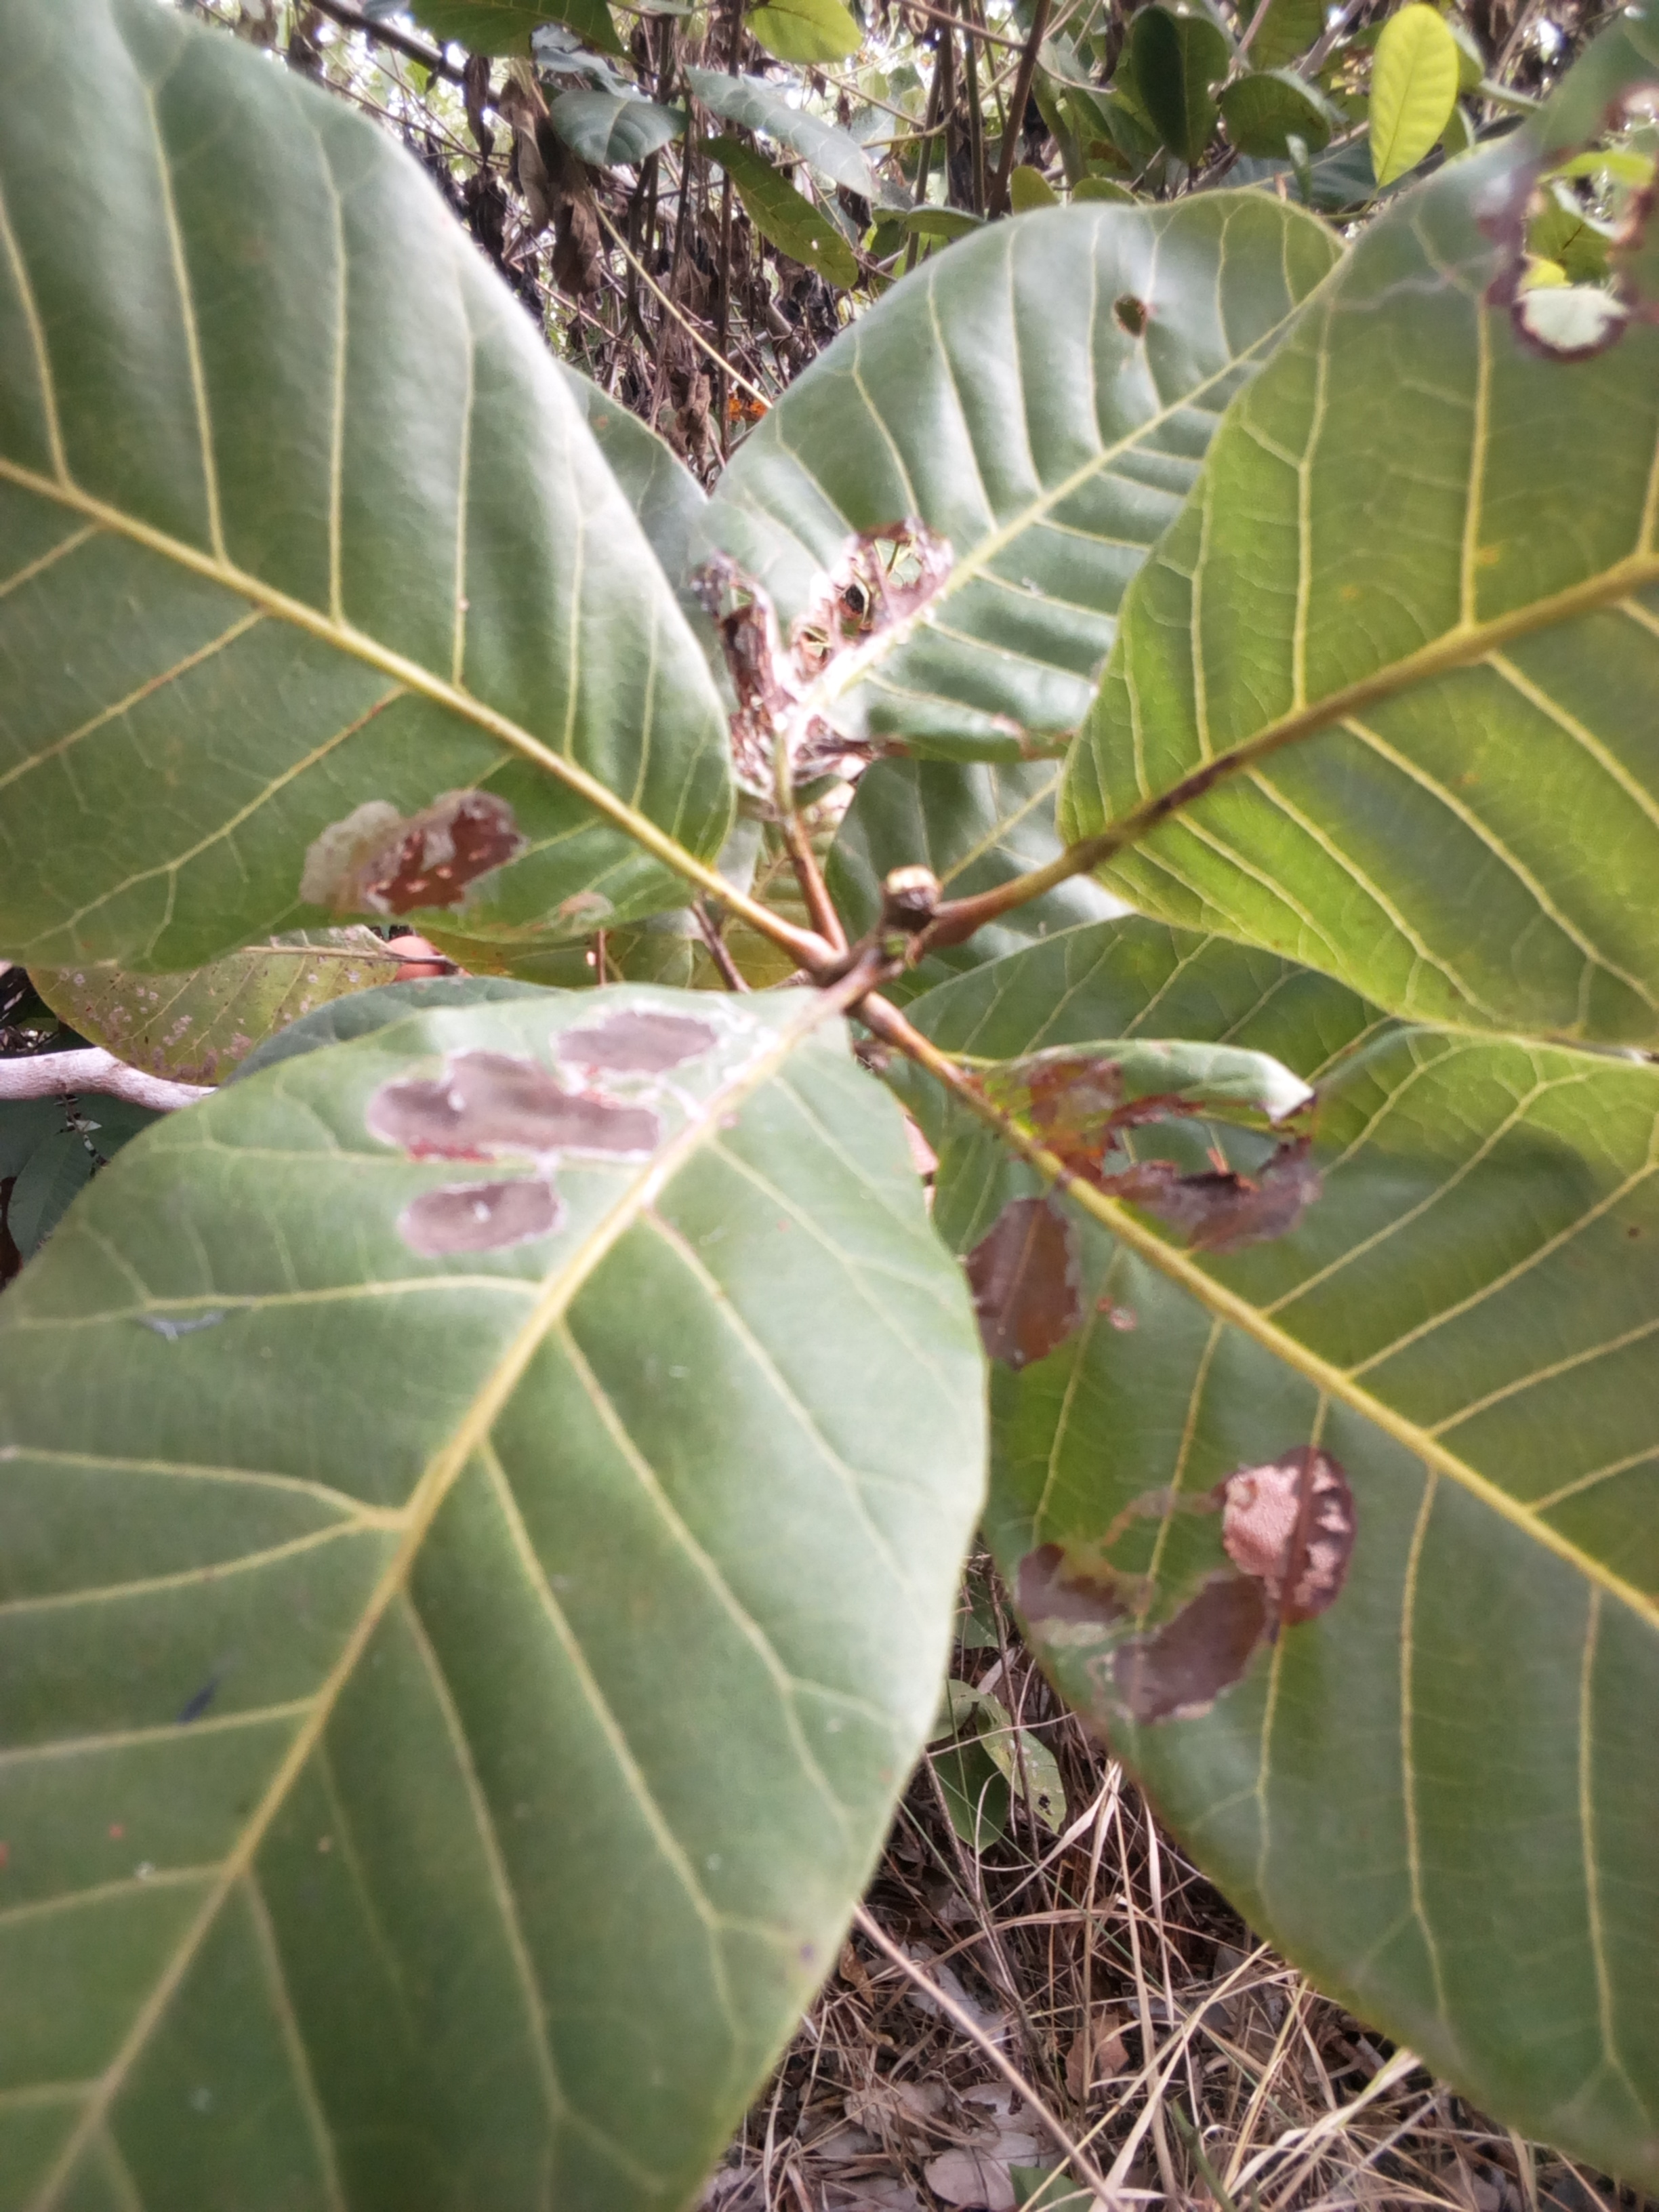Dysdercus wolkerii: (0, 970, 1192, 2210)
